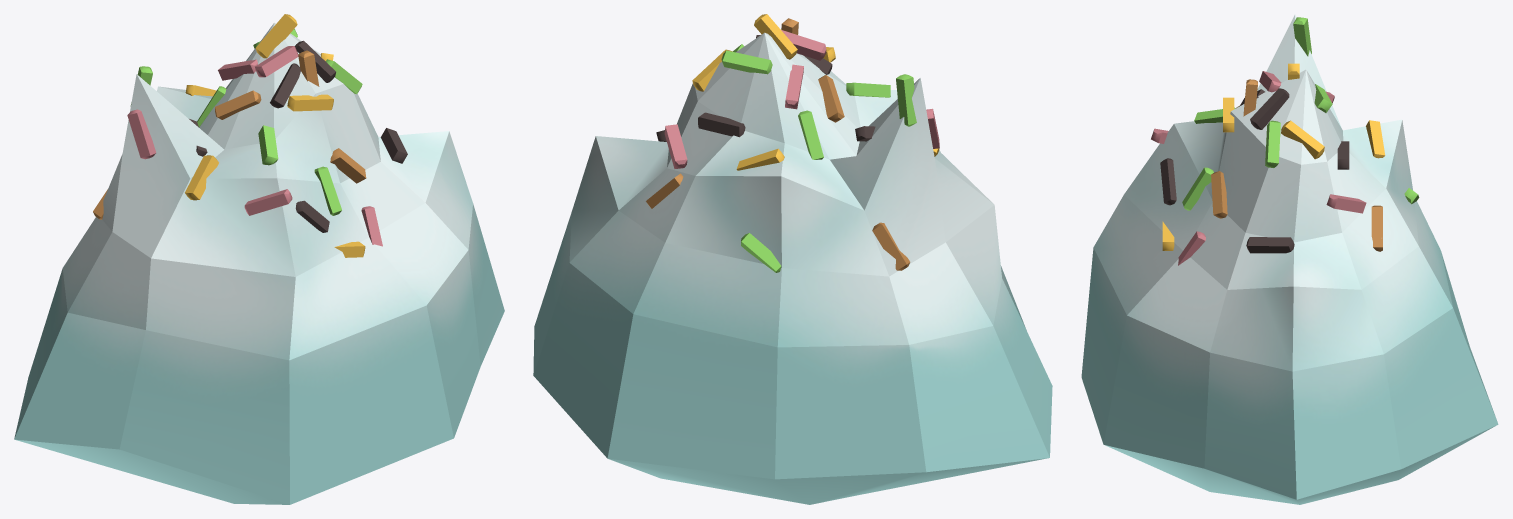
File: shabed02.fbx
3 views of the same model, side by side, from view 1: azimuth 30°, elevation 25°; view 2: azimuth 150°, elevation 25°; view 3: azimuth 270°, elevation 25° (orthographic). The views are drawn at different scales.
Visible parts, largest first — view 1: shabed02; view 2: shabed02; view 3: shabed02.
Boxes of the visible parts, <box> form: shabed02: <box>14,14,504,504</box>; shabed02: <box>533,14,1052,504</box>; shabed02: <box>1081,14,1498,504</box>.
Size of the model in its own units: 760 by 651 by 583.
